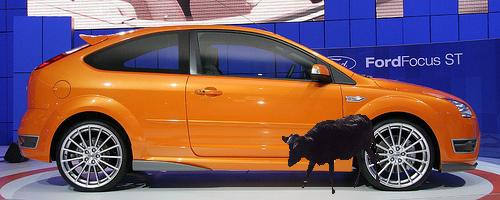tampered: (283, 115, 380, 194)
